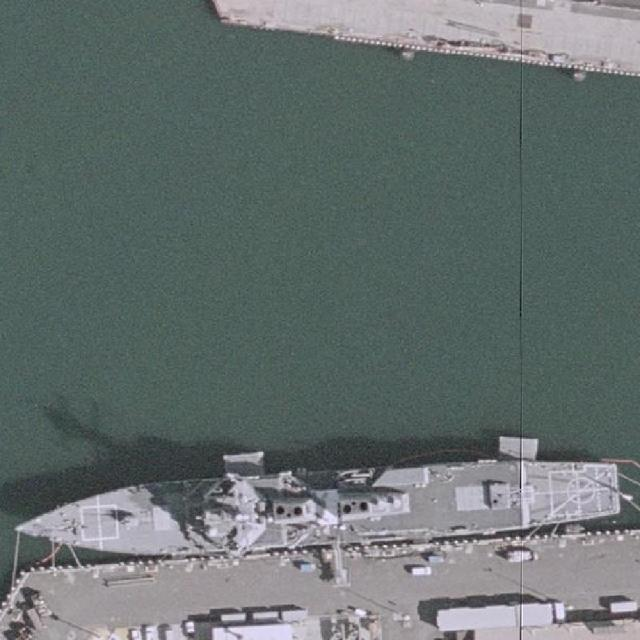Destroyer: (12, 451, 620, 564)
